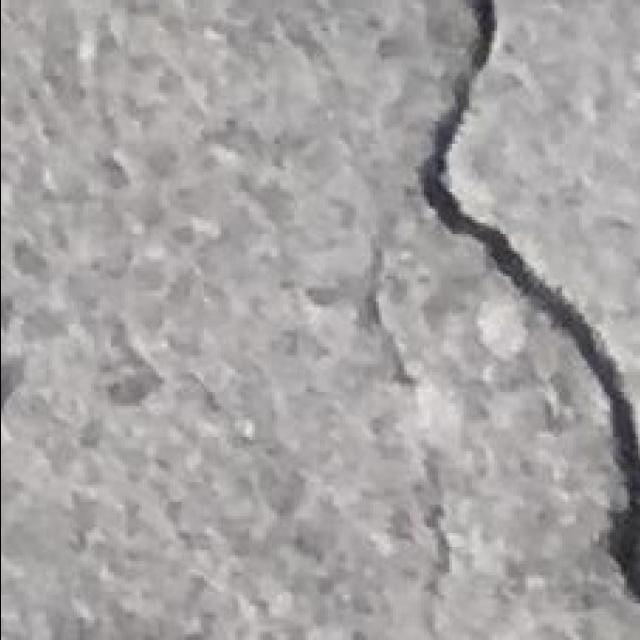Crack: (417, 1, 638, 601), (6, 160, 156, 457), (414, 4, 504, 220)
